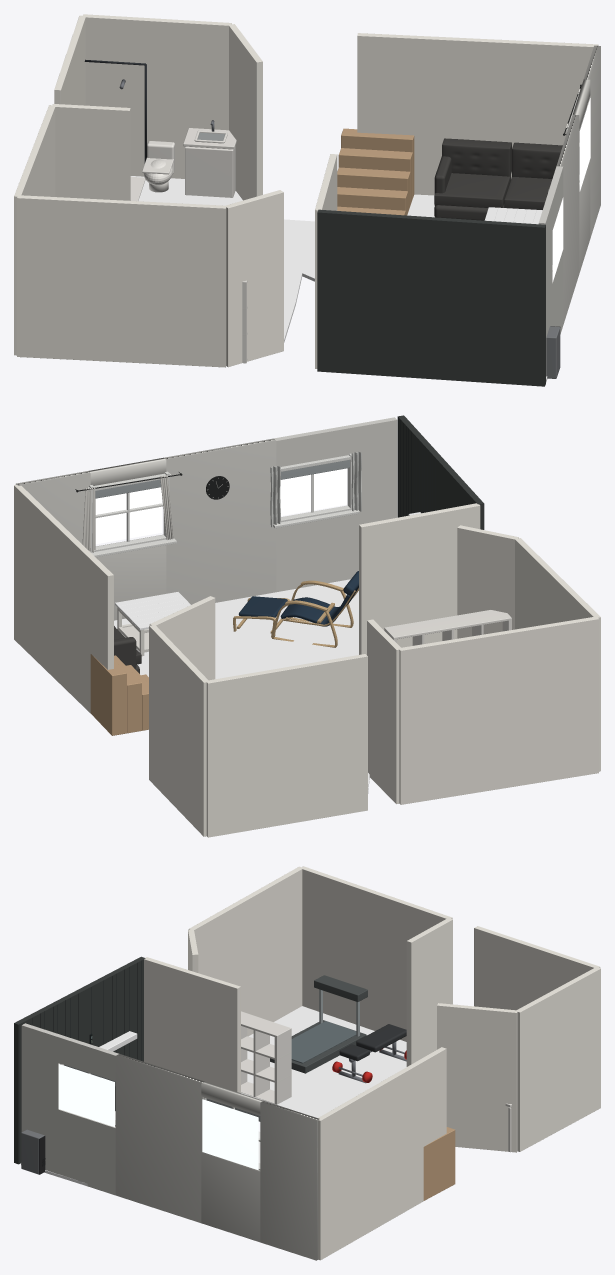
The picture shows the model from 3 angles, top to bottom: view 1: azimuth 30°, elevation 25°; view 2: azimuth 150°, elevation 25°; view 3: azimuth 270°, elevation 25°; orthographic projection. The views are drawn at different scales.
Visible parts, largest first — view 1: source-wall-8-replacement, home-lower-level_observed_wall_0_panel, home-lower-level_observed_wall_6_panel, home-lower-level_observed_wall_4_panel, home-lower-level_observed_wall_10_panel, home-lower-level_observed_wall_2_panel, home-lower-level_observed_wall_5_panel, home-lower-level_independently_traced_floor, actual-second-window-wall-between-windows, home-lower-level_observed_wall_1_panel, home-lower-level__bath_vanity__cabinet, home-lower-level__lounge_sofa__back_0__source_closed (+21 smaller); view 2: home-lower-level_observed_wall_1_panel, home-lower-level_observed_wall_3_panel, actual-second-window-wall-between-windows, home-lower-level_observed_wall_6_panel, home-lower-level_observed_wall_9_panel, home-lower-level_observed_wall_4_panel, home-lower-level_independently_traced_floor, home-lower-level_observed_wall_10_panel, home-lower-level_observed_wall_2_panel, source-wall-8-replacement, actual-window-cutout-wall-below, actual-window-cutout-wall-left (+18 smaller); view 3: home-lower-level_observed_wall_6_panel, home-lower-level_observed_wall_1_panel, actual-second-window-wall-between-windows, home-lower-level_observed_wall_4_panel, home-lower-level_observed_wall_0_panel, home-lower-level_observed_wall_5_panel, home-lower-level_observed_wall_9_panel, actual-second-window-wall-rightof-second, source-wall-8-replacement, home-lower-level_observed_wall_3_panel, home-lower-level_independently_traced_floor, home-lower-level_observed_wall_2_panel (+16 smaller).
Boxes of the visible parts, x1,y1,x2,y2 form: source-wall-8-replacement: (317,209,545,386); home-lower-level_observed_wall_0_panel: (17,195,226,367); home-lower-level_observed_wall_6_panel: (357,33,598,195); home-lower-level_observed_wall_4_panel: (83,14,231,178); home-lower-level_observed_wall_10_panel: (226,190,283,367); home-lower-level_observed_wall_2_panel: (52,104,130,200); home-lower-level_observed_wall_5_panel: (229,24,262,200); home-lower-level_independently_traced_floor: (130,176,547,382); actual-second-window-wall-between-windows: (556,115,579,324); home-lower-level_observed_wall_1_panel: (14,105,55,355); home-lower-level__bath_vanity__cabinet: (185,146,235,197); home-lower-level__lounge_sofa__back_0__source_closed: (442,138,511,176); home-lower-level_observed_wall_1_panel: (399,617,598,804); home-lower-level_observed_wall_3_panel: (206,654,367,837); actual-second-window-wall-between-windows: (164,438,276,604); home-lower-level_observed_wall_6_panel: (14,485,113,713); home-lower-level_observed_wall_9_panel: (359,503,480,654); home-lower-level_observed_wall_4_panel: (149,624,207,836); home-lower-level_independently_traced_floor: (114,579,369,793); home-lower-level_observed_wall_10_panel: (457,525,518,638); home-lower-level_observed_wall_2_panel: (367,619,401,803); source-wall-8-replacement: (397,415,484,529); actual-window-cutout-wall-below: (276,505,350,592); actual-window-cutout-wall-left: (348,417,397,579); home-lower-level_observed_wall_6_panel: (318,1047,446,1260); home-lower-level_observed_wall_1_panel: (302,866,452,1041); actual-second-window-wall-between-windows: (115,1054,204,1222); home-lower-level_observed_wall_4_panel: (515,967,600,1151); home-lower-level_observed_wall_0_panel: (188,866,303,1036); home-lower-level_observed_wall_5_panel: (437,1003,517,1152); home-lower-level_observed_wall_9_panel: (144,957,240,1092); actual-second-window-wall-rightof-second: (260,1101,319,1260); source-wall-8-replacement: (14,956,145,1164); home-lower-level_observed_wall_3_panel: (474,926,600,1010); home-lower-level_independently_traced_floor: (21,1006,406,1186); home-lower-level_observed_wall_2_panel: (406,918,452,1066).
Bounding box in the file's own units: 8.99 × 2.3 × 8.76.
